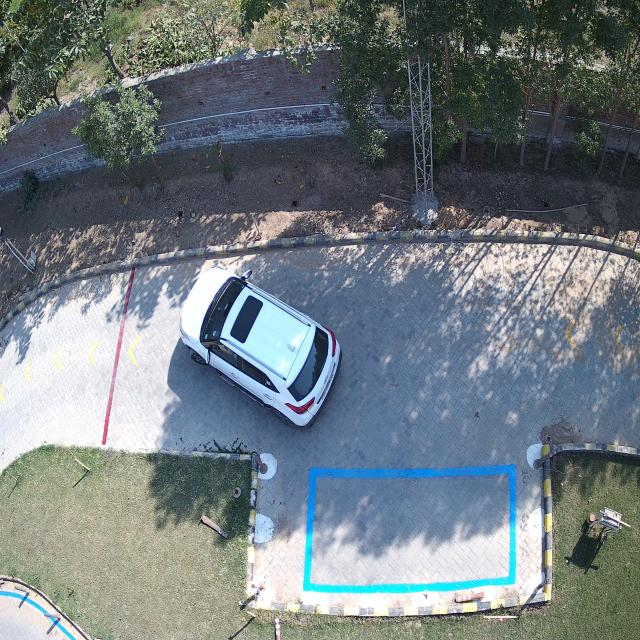car: (180, 267, 342, 427)
